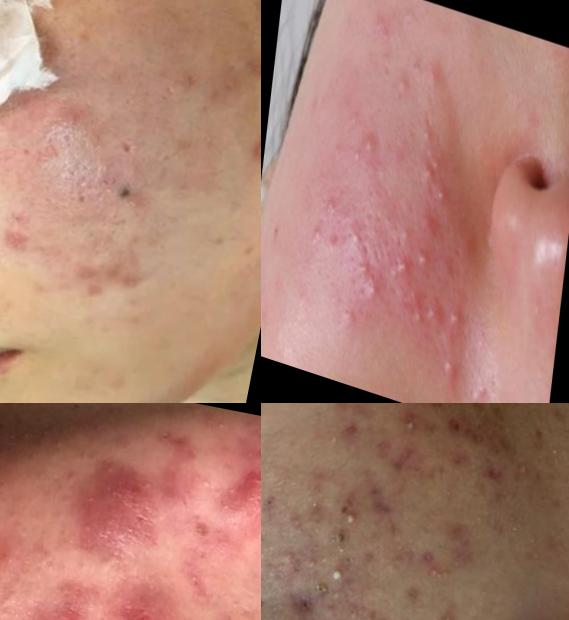acne_scars: (52, 250, 154, 317), (1, 224, 46, 266), (231, 128, 262, 172)
papular: (42, 97, 97, 144), (114, 182, 164, 225), (351, 245, 378, 288), (336, 297, 359, 341), (395, 214, 418, 255), (359, 125, 379, 164), (455, 228, 475, 265), (424, 56, 443, 94), (422, 209, 442, 245)
purulent: (314, 558, 360, 592), (421, 146, 443, 192), (394, 409, 424, 439), (422, 290, 444, 330), (392, 250, 413, 289), (438, 344, 458, 384), (445, 297, 464, 336), (336, 508, 364, 533), (413, 242, 434, 274), (364, 275, 384, 307), (430, 179, 448, 212), (408, 304, 427, 333), (434, 608, 464, 620)
sebo-crystan-conglo: (50, 441, 168, 588), (206, 440, 262, 560), (99, 587, 178, 620)
whitehead: (520, 288, 546, 328), (509, 454, 538, 489), (345, 102, 366, 140), (346, 140, 368, 174), (346, 220, 365, 259), (374, 21, 395, 56), (395, 68, 413, 108), (435, 248, 455, 283), (470, 374, 491, 404), (262, 562, 281, 592), (324, 188, 341, 218), (401, 2, 419, 30), (307, 218, 322, 247)
